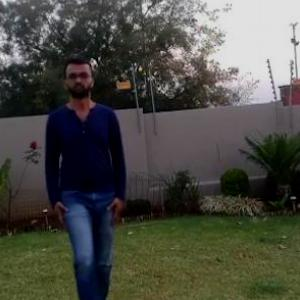follow: (52, 67, 126, 299)
